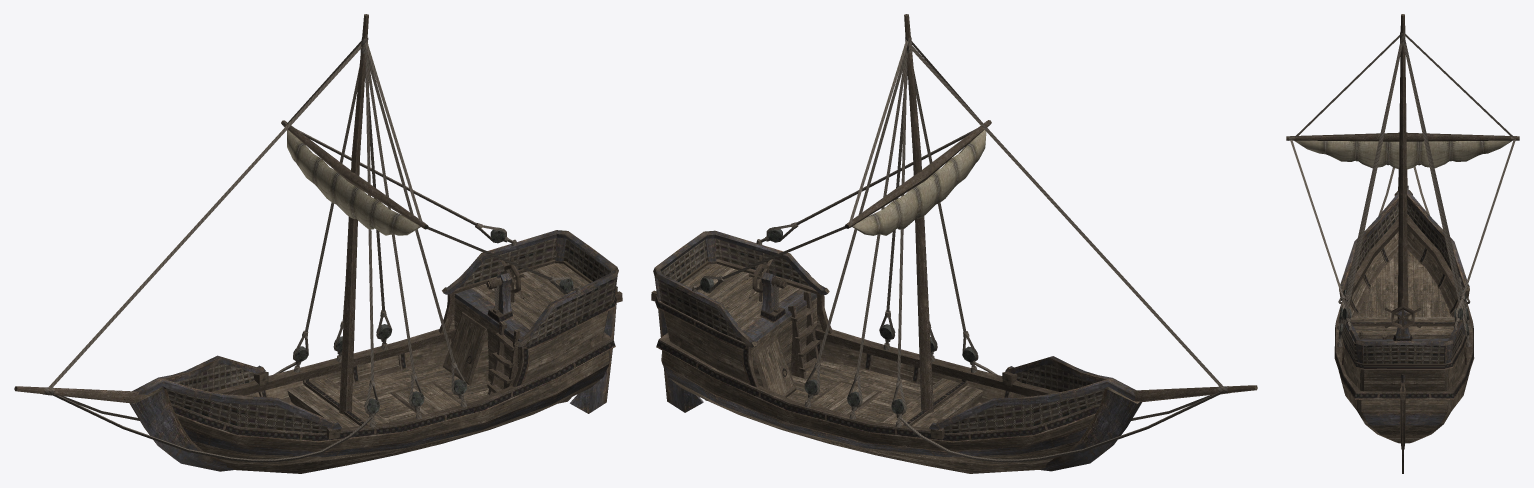
File: eso_gu8_Boat1-transformed.glb
3 renders of one model, left to right at view 1: azimuth 30°, elevation 25°; view 2: azimuth 150°, elevation 25°; view 3: azimuth 270°, elevation 25°, orthographic. The views are drawn at different scales.
Parts seen in each view (by area): view 1: default; view 2: default; view 3: default.
Part boxes in pixels (left/top/right/bottom): default: left=14, top=14, right=622, bottom=473; default: left=651, top=14, right=1257, bottom=473; default: left=1286, top=14, right=1519, bottom=473.
Bounding box in the file's own units: 19.26 × 13.74 × 7.87.
Materials: 1 (1 with a texture image).
